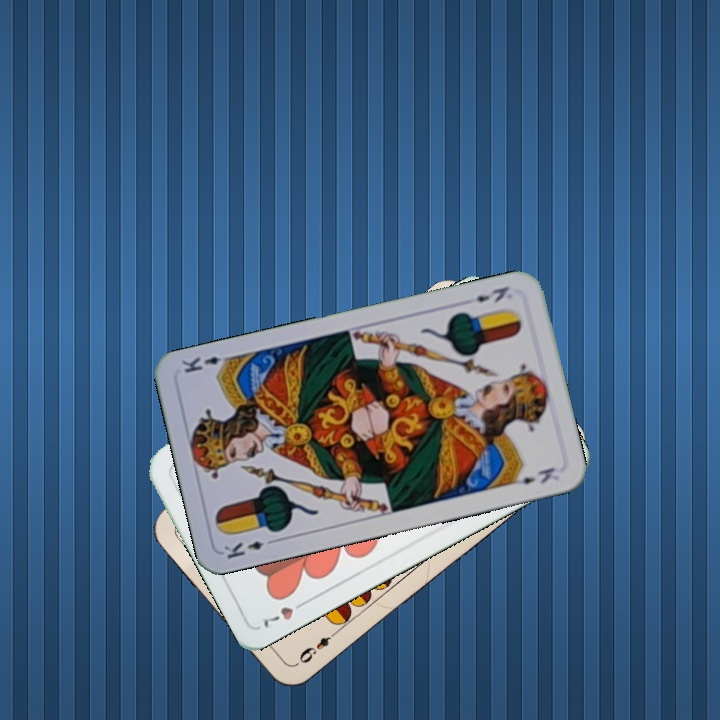E9: (291, 626, 340, 669)
EK: (220, 534, 279, 562), (471, 282, 512, 305)
H7: (259, 596, 312, 630)
